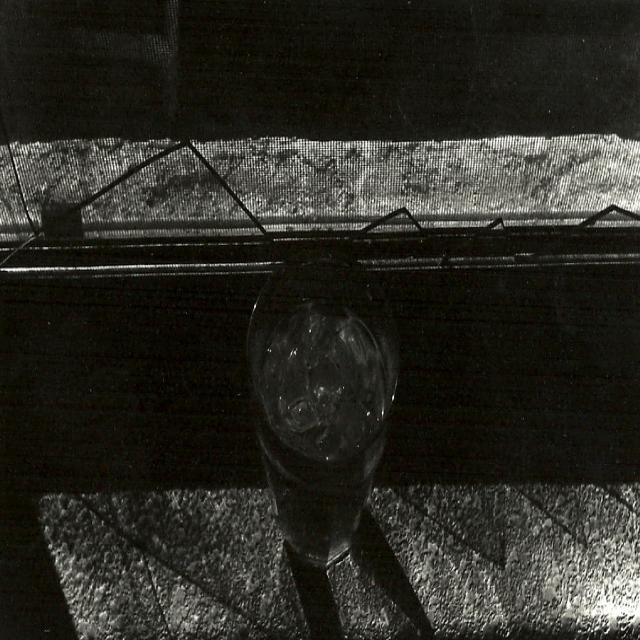Cup: (241, 260, 402, 568)
